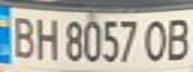0: (81, 17, 103, 63)
5: (100, 16, 121, 63)
7: (118, 16, 142, 63)
8: (60, 16, 84, 63)
B: (6, 12, 39, 60), (163, 15, 193, 62)
H: (30, 14, 60, 61)
O: (142, 16, 172, 63)
